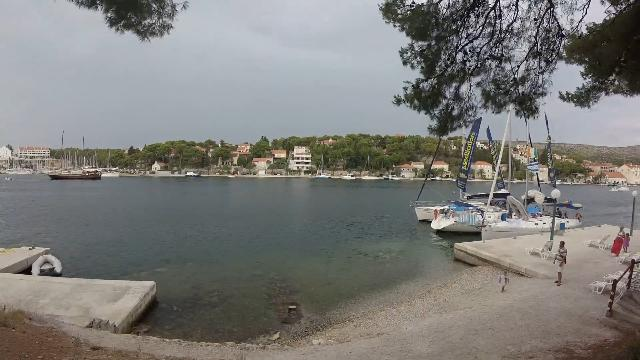Freighter: (36, 165, 108, 183)
